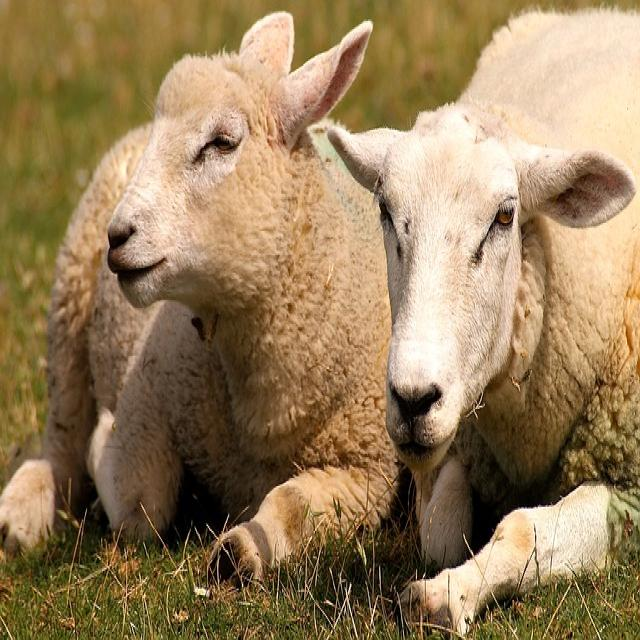goat: (0, 12, 398, 576), (330, 14, 640, 633)
